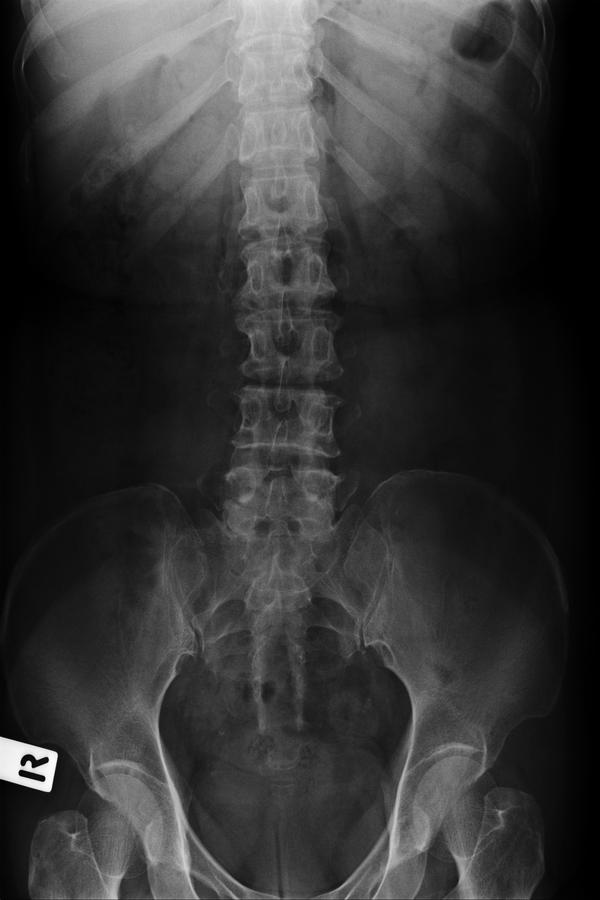lumbar scoliosis: (215, 173, 352, 546)
